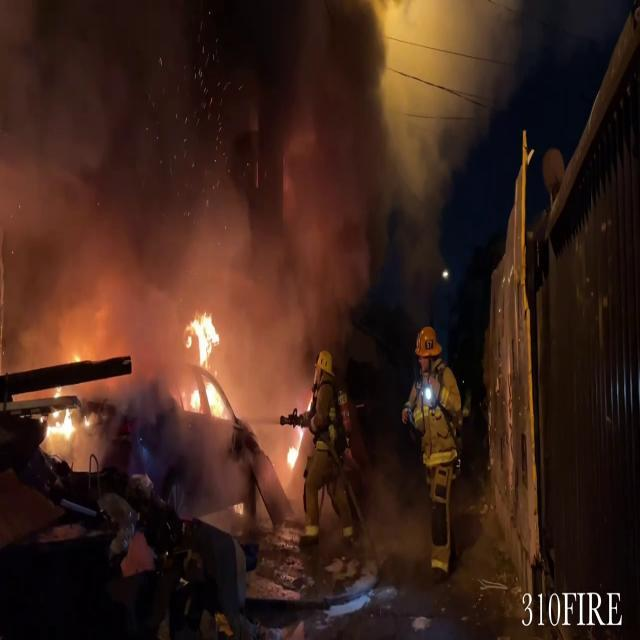Fire: (182, 305, 230, 417), (31, 390, 89, 450)
Smoke: (1, 2, 408, 346), (0, 2, 178, 346)
